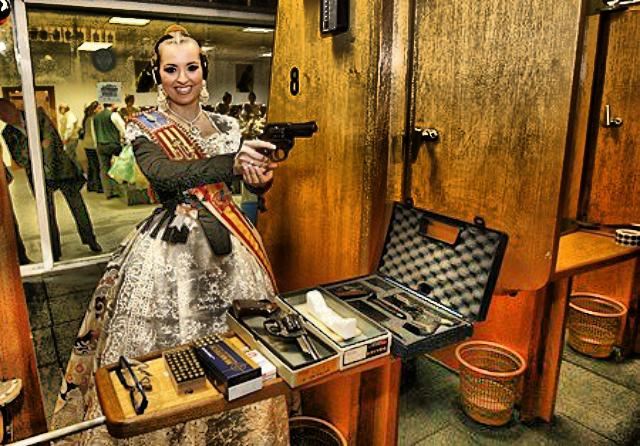pistol: (236, 117, 320, 190)
